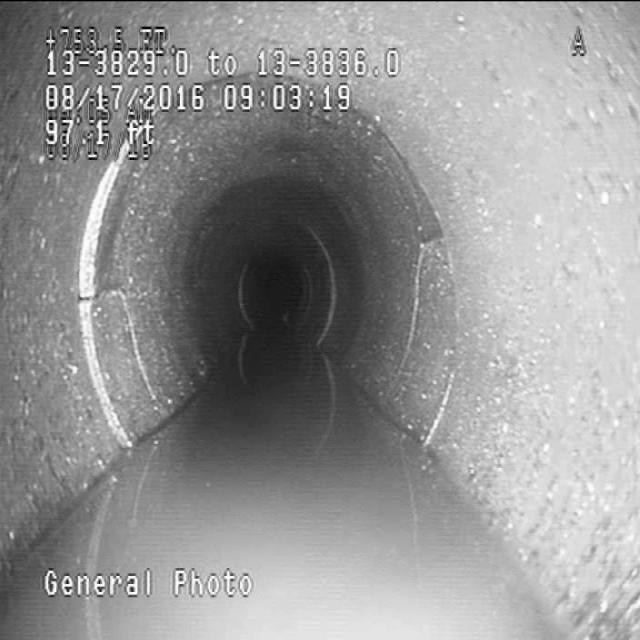Crack: (78, 268, 154, 390), (385, 236, 440, 366)
